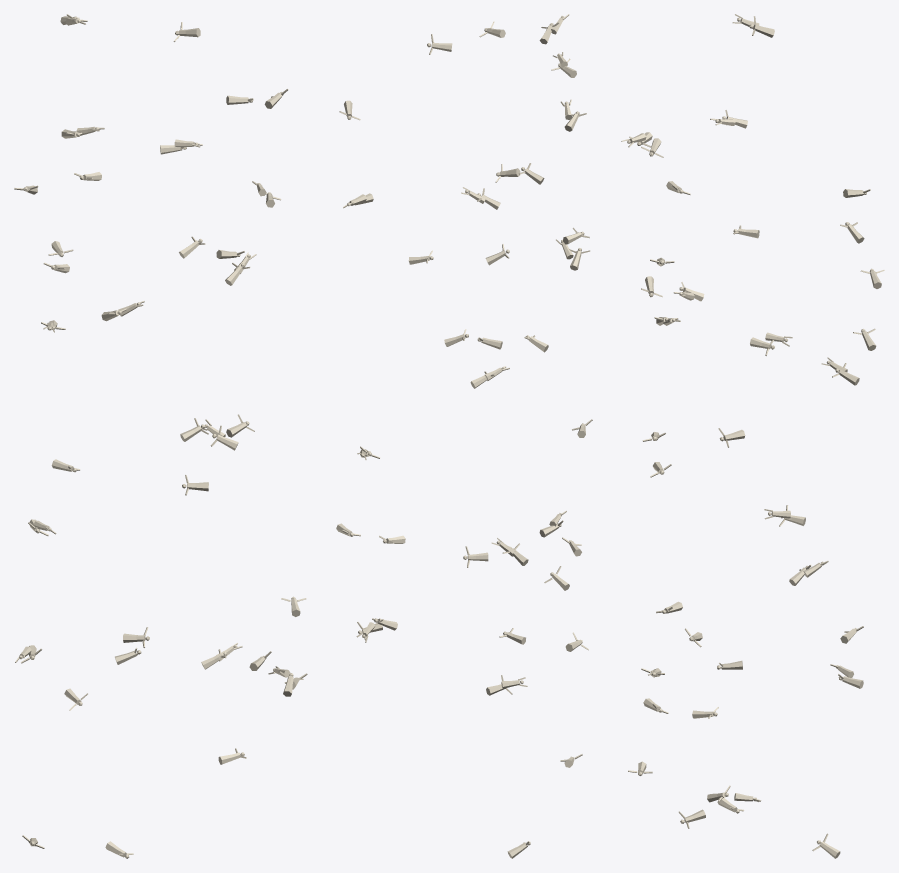
File: Circle2Whirl1.obj
The picture shows the model from 3 angles, left to right: view 1: azimuth 30°, elevation 25°; view 2: azimuth 150°, elevation 25°; view 3: azimuth 270°, elevation 25°; orthographic projection. The views are drawn at different scales.
Parts seen in each view (by area): view 1: Circle2Whirl1; view 2: Circle2Whirl1; view 3: Circle2Whirl1.
Boxes of the visible parts, x1,y1,x2,y2 form: Circle2Whirl1: (14, 14, 307, 858); Circle2Whirl1: (336, 14, 592, 858); Circle2Whirl1: (621, 14, 884, 858).
Bounding box in the file's own units: 24.77 × 80.91 × 22.99.
Materials: 1 (1 with a texture image).
